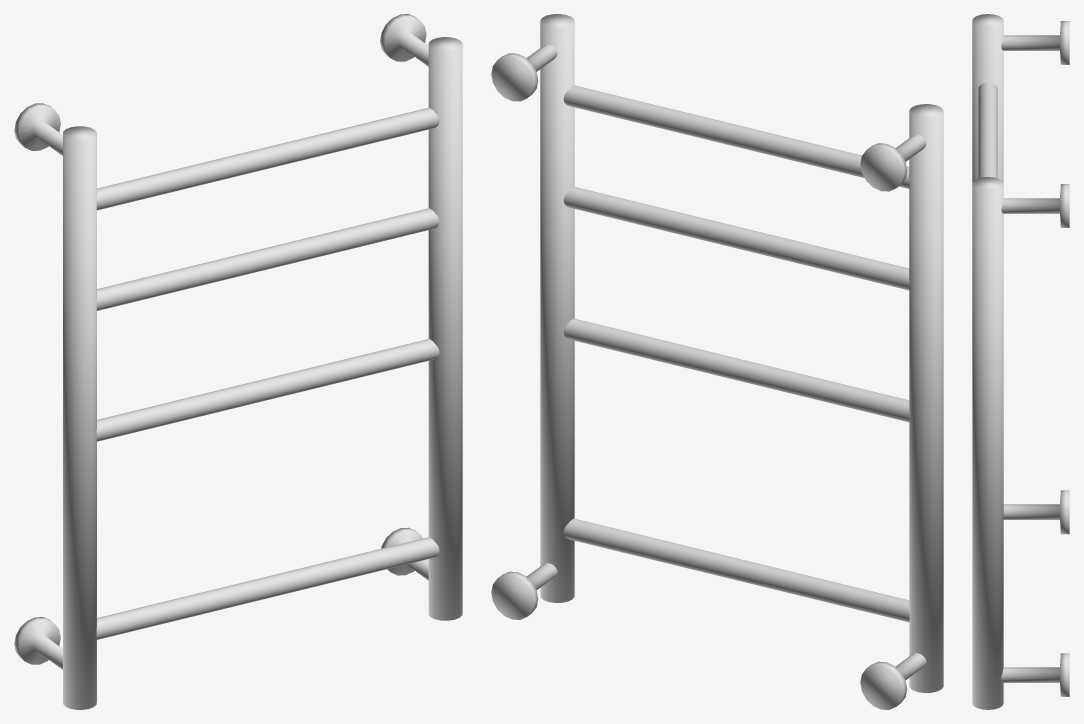
Rendered from TowelRack.fbx.
3 views of the same model, side by side, from view 1: azimuth 30°, elevation 25°; view 2: azimuth 150°, elevation 25°; view 3: azimuth 270°, elevation 25° (orthographic). The views are drawn at different scales.
Parts seen in each view (by area): view 1: Prop_TowelRails_01; view 2: Prop_TowelRails_01; view 3: Prop_TowelRails_01.
Boxes of the visible parts, <box> form: Prop_TowelRails_01: <box>14,14,462,709</box>; Prop_TowelRails_01: <box>491,14,943,709</box>; Prop_TowelRails_01: <box>972,14,1069,709</box>.
Size of the model in its own units: 60.94 by 81.36 by 13.82.
1 material, 1 textured.
